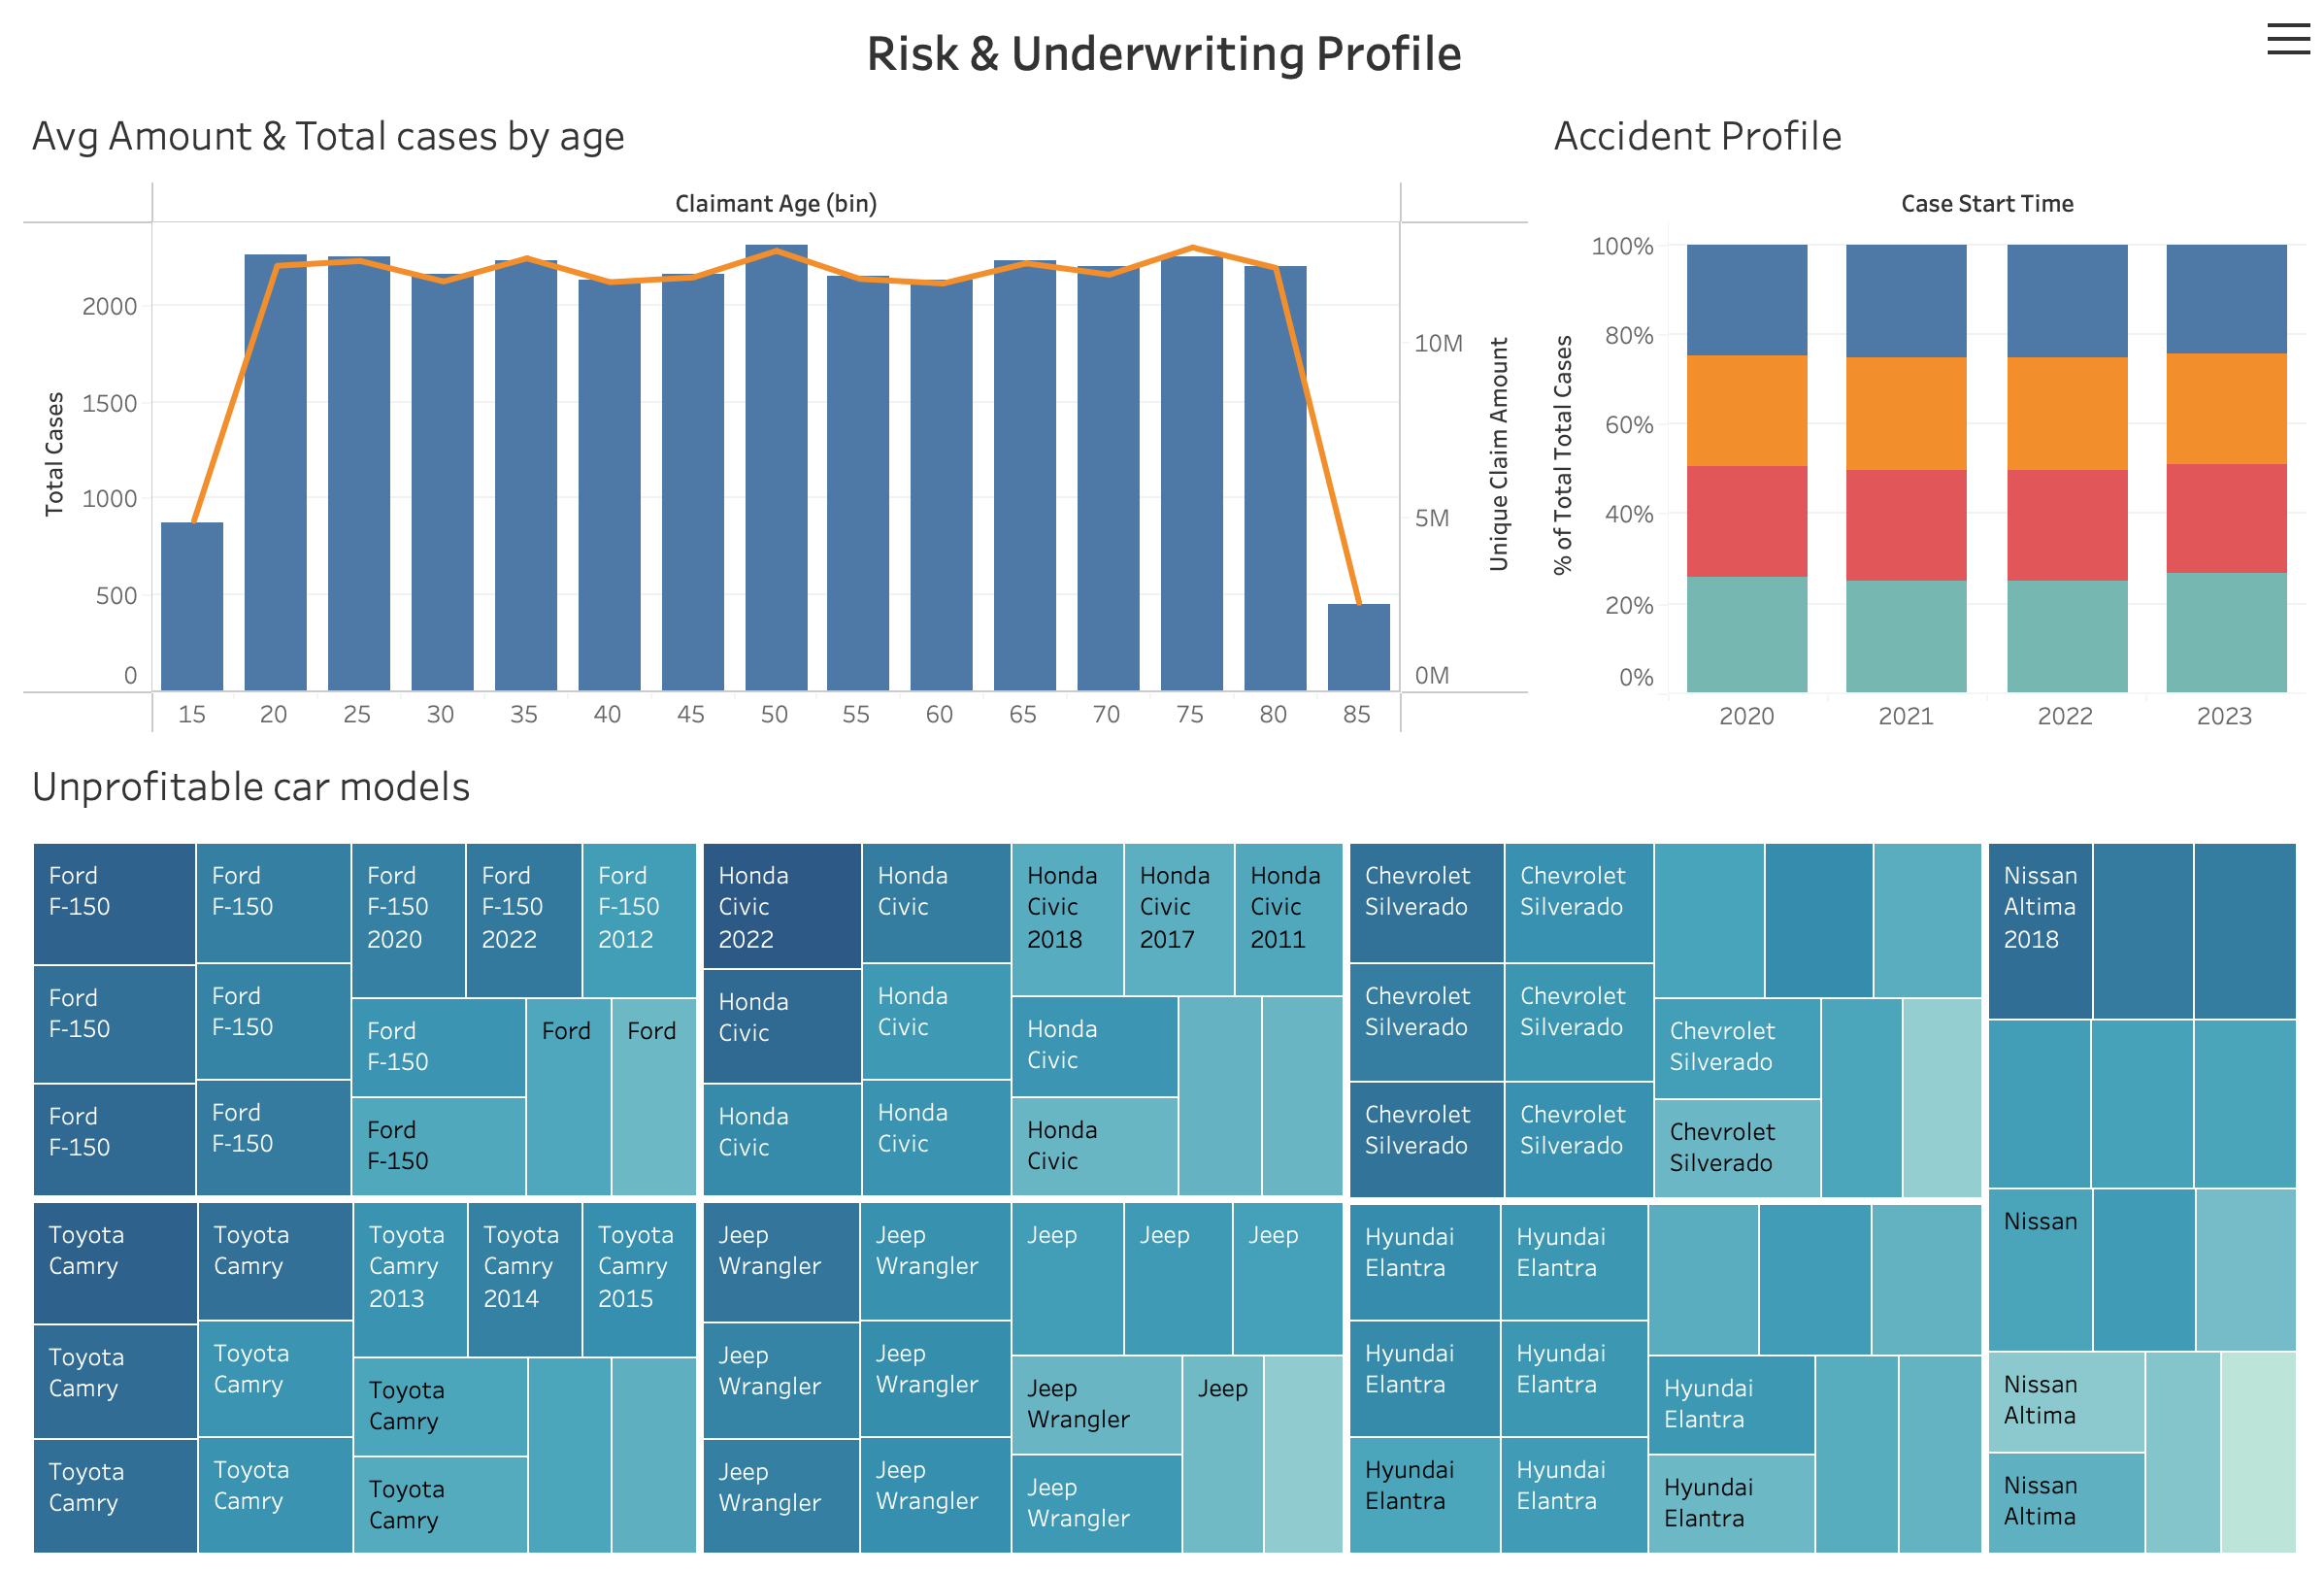

Layout of this report page (visuals, bound fields, positions):
{"tool":"tableau","page":{"name":"Risk & Underwriting Profile","canvas":[1200,820],"ordinal":2},"visuals":[{"type":"title","box":[8,8,1184,41]},{"type":"dashboard-object","box":[1167,10,24,24]},{"type":"filter","title":"Accident Profile","param":"[federated.0374fw910j7fbg14hb0lf022ywgr].[none:timestamp:qk]","box":[1037,46,158,45]},{"type":"worksheet","title":"Avg Amount & Total cases by age","mark":"Automatic","rows":["Calculation_3815408204804096","Calculation_3815408212529159"],"cols":["Claimant Age (bin)"],"box":[8,49,783.9,335]},{"type":"worksheet","title":"Accident Profile","mark":"Bar","cols":["Calculation_3815408207904770"],"box":[791.9,49,400.1,335]},{"type":"filter","title":"Accident Profile","param":"[federated.0374fw910j7fbg14hb0lf022ywgr].[none:car_make:nk]","box":[1037,91,158,32]},{"type":"filter","title":"Accident Profile","param":"[federated.0374fw910j7fbg14hb0lf022ywgr].[none:car_model:nk]","box":[1037,123,158,32]},{"type":"filter","title":"Accident Profile","param":"[federated.0374fw910j7fbg14hb0lf022ywgr].[none:car_year:qk]","box":[1037,155,158,66]},{"type":"filter","title":"Accident Profile","param":"[federated.0374fw910j7fbg14hb0lf022ywgr].[none:type_of_accident:nk]","box":[1037,221,158,32]},{"type":"filter","title":"Accident Profile","param":"[federated.0374fw910j7fbg14hb0lf022ywgr].[none:type_of_policy:nk]","box":[1037,253,158,32]},{"type":"filter","title":"Accident Profile","param":"[federated.0374fw910j7fbg14hb0lf022ywgr].[none:user_type:nk]","box":[1037,285,158,32]},{"type":"worksheet","title":"Unprofitable car models","mark":"Square","box":[8,384,1184,428]}]}

Visuals, with their boxes in screenshot pixels (x1, y1, x2, y2), scaled from the page's 1200x820 canvas onto the 2324x1573 screenshot:
title: bbox=[16, 16, 2308, 94]
dashboard-object: bbox=[2260, 19, 2307, 65]
"Accident Profile" filter: bbox=[2009, 88, 2314, 175]
"Avg Amount & Total cases by age" worksheet: bbox=[16, 94, 1534, 737]
"Accident Profile" worksheet (Bar marks): bbox=[1534, 94, 2308, 737]
"Accident Profile" filter: bbox=[2009, 175, 2314, 236]
"Accident Profile" filter: bbox=[2009, 236, 2314, 297]
"Accident Profile" filter: bbox=[2009, 297, 2314, 424]
"Accident Profile" filter: bbox=[2009, 424, 2314, 485]
"Accident Profile" filter: bbox=[2009, 485, 2314, 547]
"Accident Profile" filter: bbox=[2009, 547, 2314, 608]
"Unprofitable car models" worksheet (Square marks): bbox=[16, 737, 2308, 1557]
